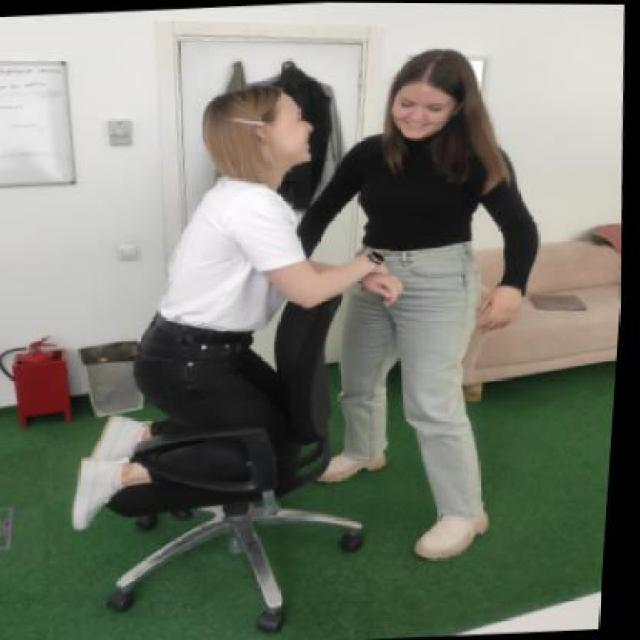chair: (86, 254, 402, 638)
